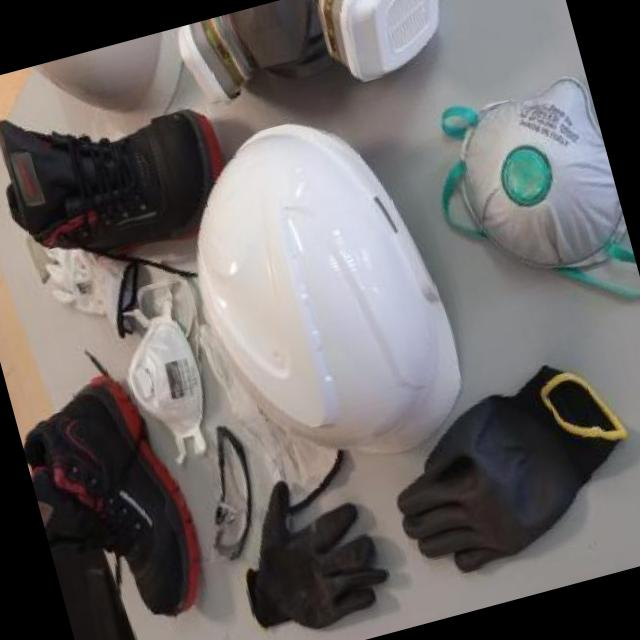hard_hat: (161, 94, 481, 498)
work_boots: (10, 359, 220, 640), (0, 66, 242, 277)
